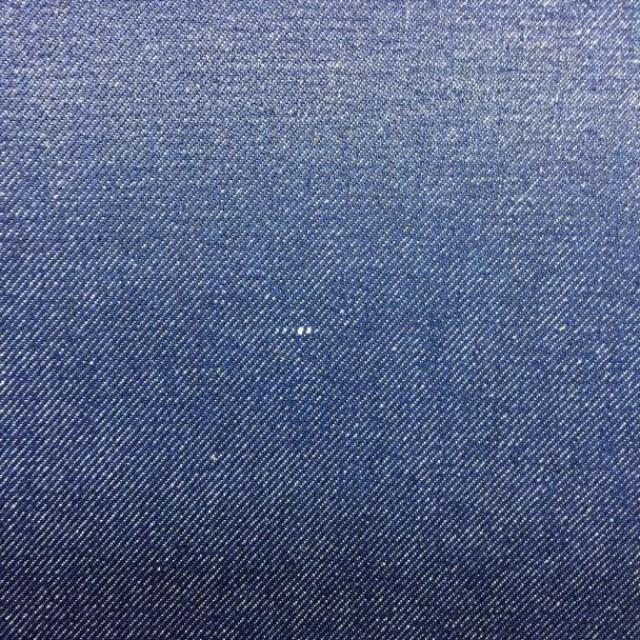Knot: (274, 325, 319, 337)
